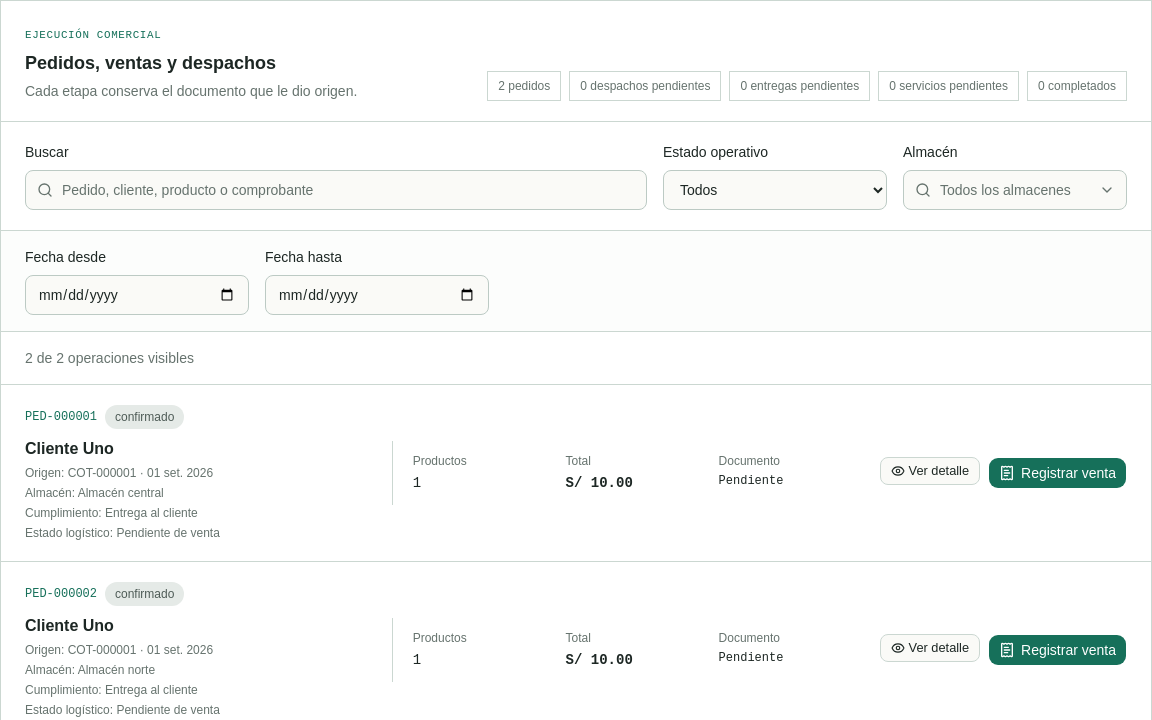
Scenario: PanelOperacionesVenta › busca y filtra operaciones por almacén
Type "norte" into the dropdown labelled "Almacén" at (1015, 190), box [903,170,1127,210]
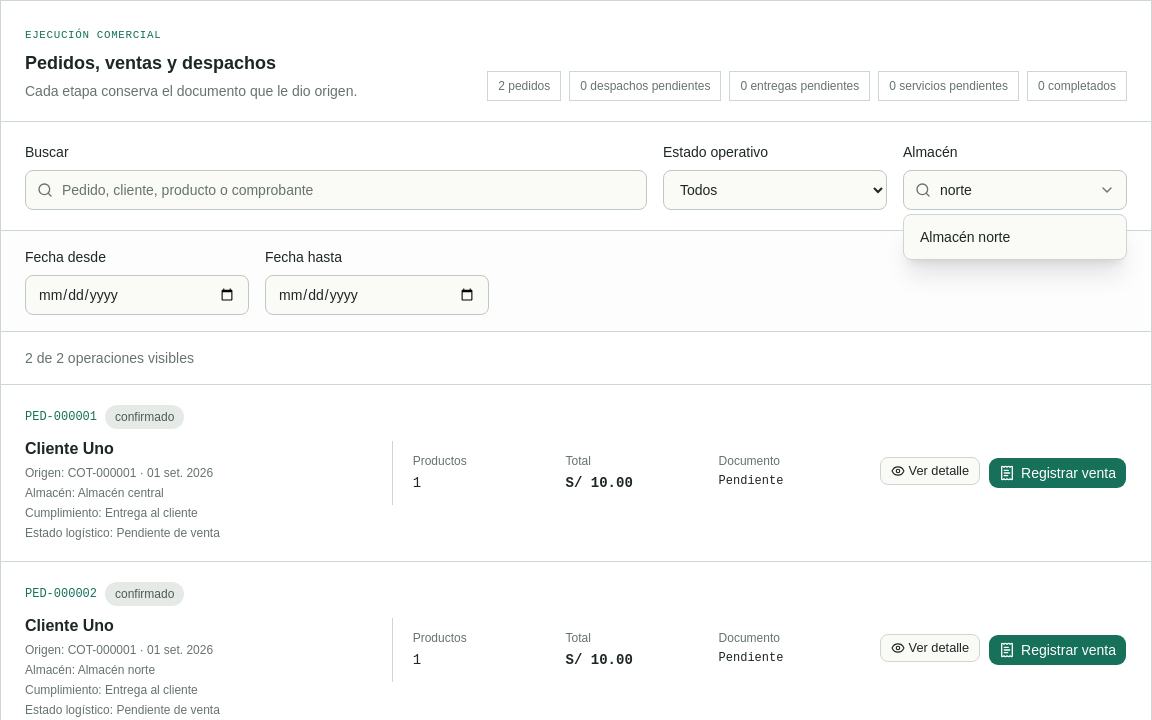
Click the option "Almacén norte" at (965, 237), box [920,229,1010,245]
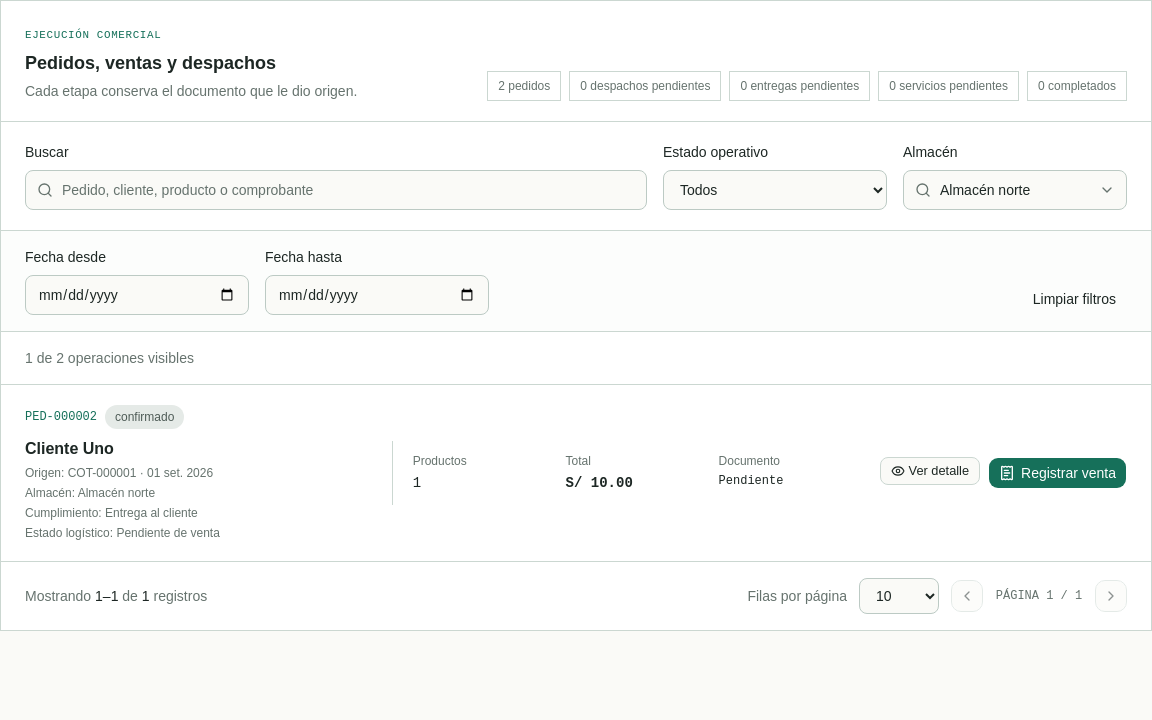
Expected: the text "PED-000002" is shown, [25,409,97,425]
Result: the text "1 de 2 operaciones visibles" is shown at [1,332,1151,385]
Result: the text "PED-000001" is gone
